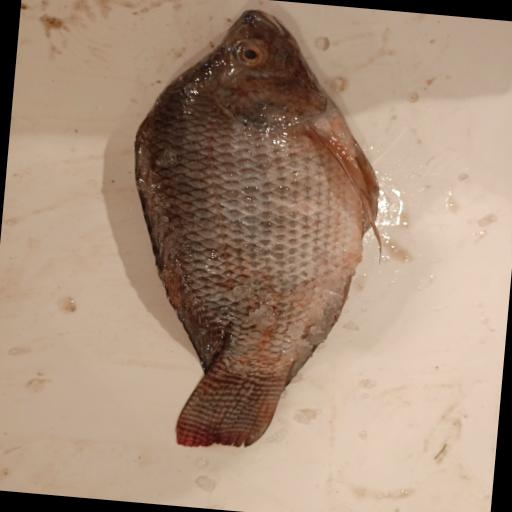Tilapia: (107, 0, 402, 462)
